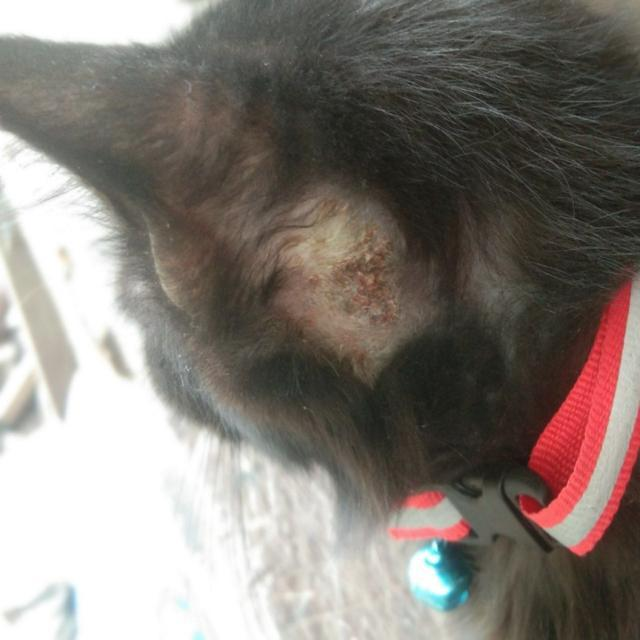hac lao: (222, 175, 512, 371)
